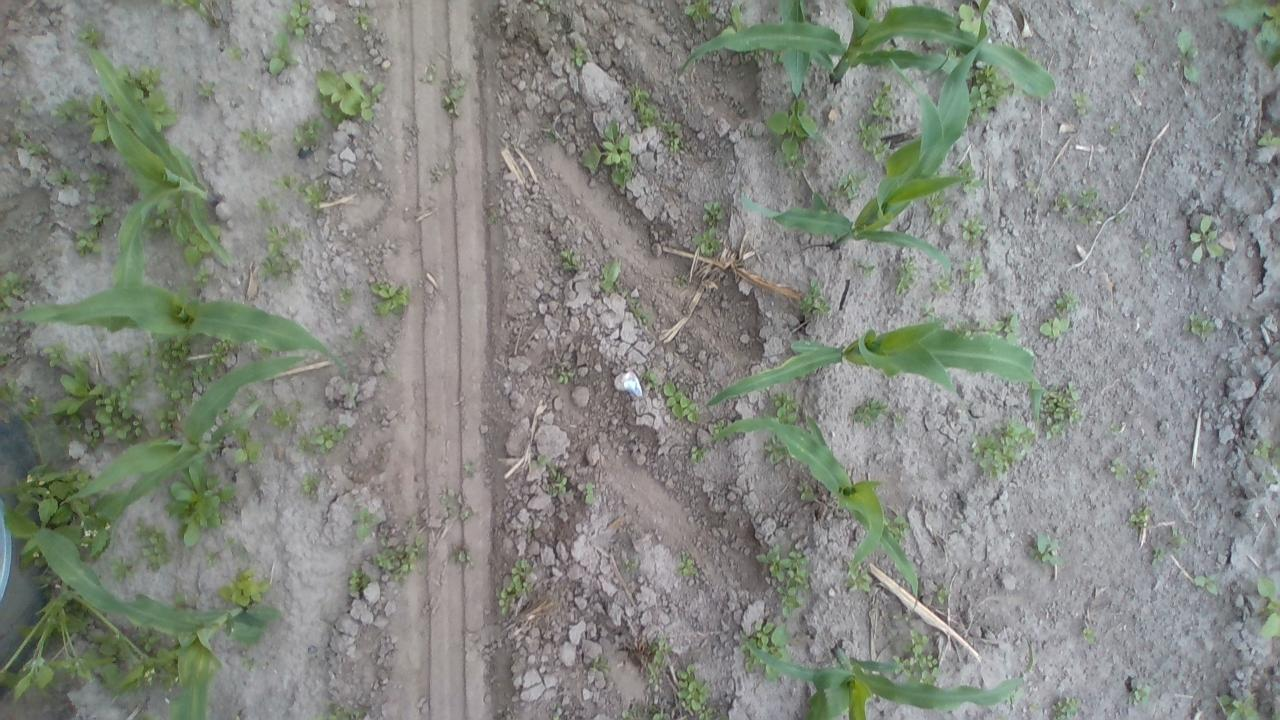Maize: (736, 0, 990, 266), (32, 527, 275, 720), (81, 44, 232, 332), (62, 356, 310, 520), (677, 0, 1060, 104), (713, 419, 918, 612), (704, 318, 1044, 418), (0, 283, 347, 377), (734, 626, 1030, 720), (776, 0, 808, 92), (189, 0, 221, 28), (811, 49, 837, 74)
Weeds: (0, 592, 116, 706), (0, 464, 108, 572), (168, 463, 235, 552), (87, 348, 148, 444), (115, 628, 184, 696), (1217, 0, 1280, 74), (152, 334, 192, 435), (580, 116, 634, 189), (970, 415, 1036, 474), (765, 94, 816, 168), (316, 68, 384, 123), (756, 546, 812, 612), (738, 617, 790, 680), (854, 81, 894, 162), (1051, 185, 1129, 226), (646, 369, 704, 422), (1040, 380, 1090, 437), (52, 360, 96, 418), (216, 565, 270, 607), (375, 537, 426, 580), (696, 196, 730, 256), (136, 522, 174, 574), (902, 632, 940, 684), (223, 428, 266, 470), (970, 68, 1011, 112), (265, 30, 301, 79), (623, 638, 672, 674), (675, 663, 710, 713), (497, 558, 527, 614), (1252, 580, 1280, 640), (794, 273, 834, 315), (1040, 290, 1074, 338), (140, 90, 177, 134), (296, 422, 346, 454), (368, 278, 408, 318), (1174, 26, 1202, 83), (184, 226, 222, 266), (1190, 214, 1222, 260), (260, 250, 298, 286), (438, 487, 476, 521), (84, 90, 108, 142), (278, 0, 313, 35), (834, 167, 869, 202), (1255, 438, 1280, 487), (621, 695, 670, 720), (634, 81, 660, 128), (260, 222, 304, 248), (1186, 312, 1220, 345), (11, 128, 47, 159), (352, 506, 382, 542), (1038, 528, 1066, 566), (852, 398, 885, 430), (1220, 695, 1261, 720), (684, 0, 718, 30), (1154, 532, 1182, 568), (303, 181, 330, 218), (774, 390, 802, 424), (600, 253, 622, 296), (440, 72, 466, 108), (66, 224, 97, 254), (56, 92, 84, 124), (240, 126, 274, 152), (296, 115, 321, 150), (848, 560, 872, 596), (955, 162, 983, 192), (660, 114, 681, 153), (892, 258, 916, 292), (990, 314, 1019, 342), (1050, 694, 1082, 719), (958, 2, 984, 31), (322, 699, 361, 718), (1194, 572, 1220, 600), (134, 63, 164, 87), (925, 197, 950, 225), (110, 555, 138, 580), (920, 583, 950, 606), (0, 276, 22, 307), (1125, 500, 1149, 528), (80, 164, 104, 192), (208, 340, 230, 370), (75, 20, 102, 44), (950, 313, 978, 335), (347, 568, 372, 592), (676, 557, 700, 582), (40, 348, 70, 368), (266, 408, 292, 431), (558, 247, 580, 274), (961, 256, 982, 284), (1104, 118, 1128, 142), (88, 200, 110, 226), (888, 515, 909, 542), (1138, 460, 1158, 488), (300, 474, 321, 500), (1072, 89, 1092, 116), (961, 216, 985, 238), (1131, 3, 1158, 22), (1111, 454, 1127, 484), (256, 193, 278, 214), (160, 0, 193, 14), (195, 80, 217, 100), (1256, 128, 1278, 147), (528, 451, 550, 470), (1132, 681, 1150, 704), (2, 381, 19, 405), (932, 274, 952, 294), (228, 44, 248, 64), (192, 268, 212, 288), (451, 543, 470, 564), (424, 56, 438, 84), (798, 479, 814, 502), (202, 550, 222, 568), (551, 476, 569, 496), (580, 480, 594, 504), (1082, 620, 1097, 642), (278, 172, 296, 190), (557, 367, 576, 384), (571, 45, 585, 67), (690, 443, 706, 462), (588, 656, 610, 669), (459, 458, 476, 474), (26, 397, 40, 415), (1138, 240, 1149, 262), (1128, 62, 1144, 77), (857, 262, 874, 276), (621, 561, 639, 574), (337, 287, 352, 302), (920, 306, 936, 320), (354, 14, 368, 29), (352, 326, 365, 340), (1110, 424, 1120, 434)
